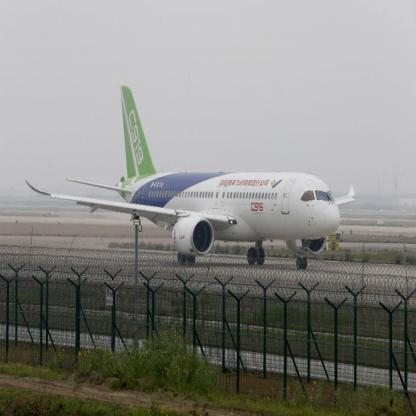CIV_Plane: (19, 80, 358, 274)
